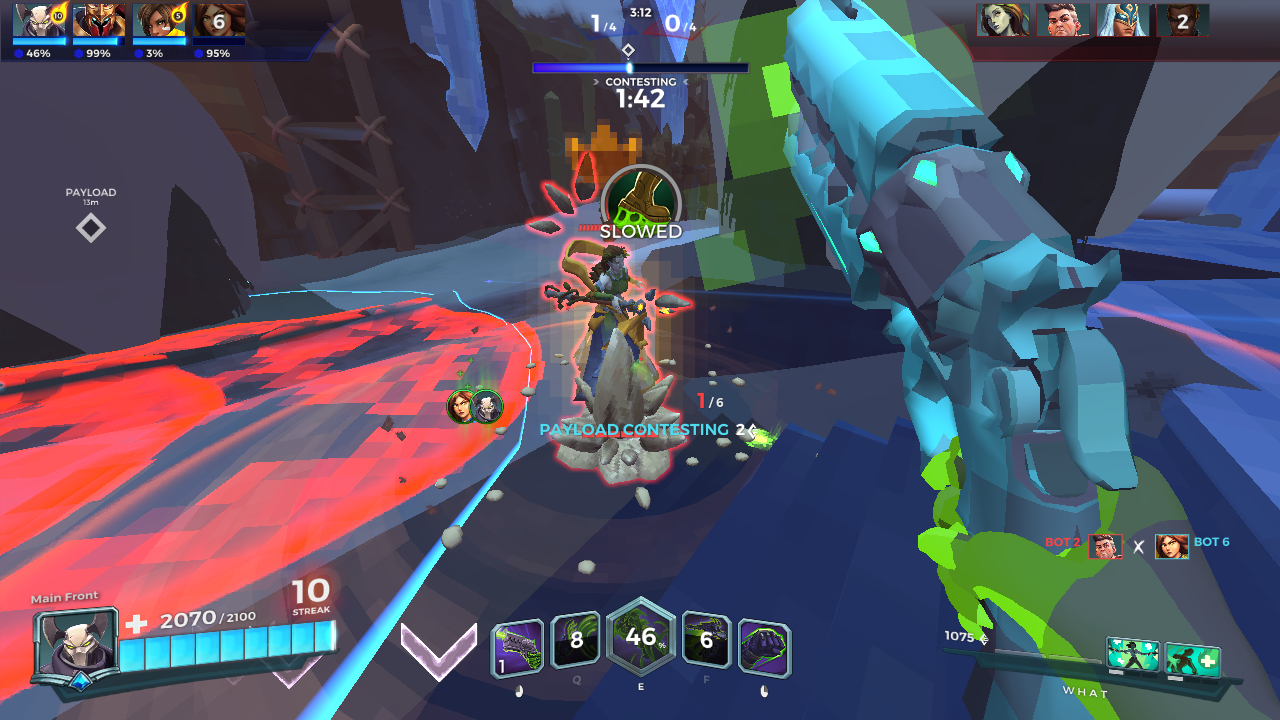model: (550, 234, 652, 393)
